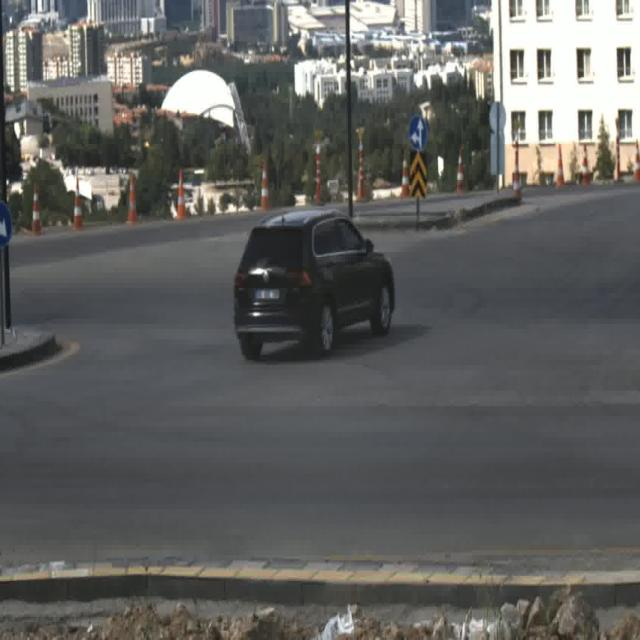Car: (232, 208, 394, 364)
